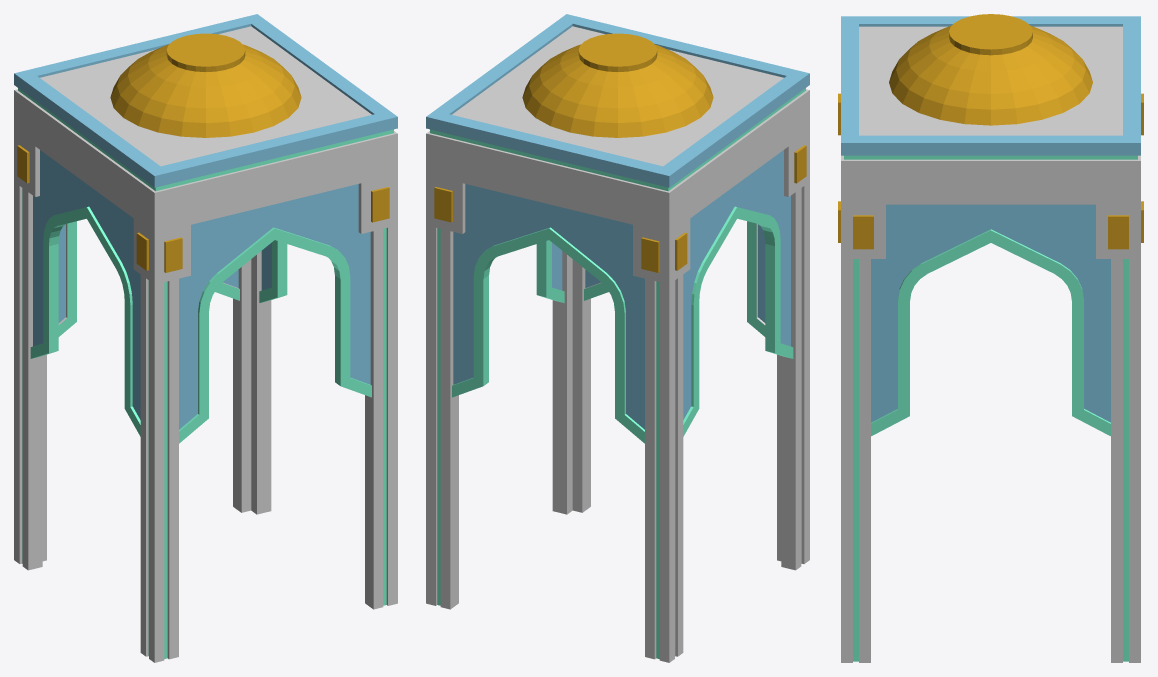
The model's file is Prop_Building_Eastern_Free_Standing_Arches_01.FBX.
3 renders of one model, left to right at view 1: azimuth 30°, elevation 25°; view 2: azimuth 150°, elevation 25°; view 3: azimuth 270°, elevation 25°, orthographic. The views are drawn at different scales.
Visible parts, largest first — view 1: Prop_Building_Eastern_Free_Standing_Arches_01; view 2: Prop_Building_Eastern_Free_Standing_Arches_01; view 3: Prop_Building_Eastern_Free_Standing_Arches_01.
Part boxes in pixels (bbox=[...]): Prop_Building_Eastern_Free_Standing_Arches_01: bbox=[14, 14, 397, 662]; Prop_Building_Eastern_Free_Standing_Arches_01: bbox=[426, 14, 809, 662]; Prop_Building_Eastern_Free_Standing_Arches_01: bbox=[838, 14, 1143, 662].
Bounding box in the file's own units: 4809 × 9848 × 4809.
